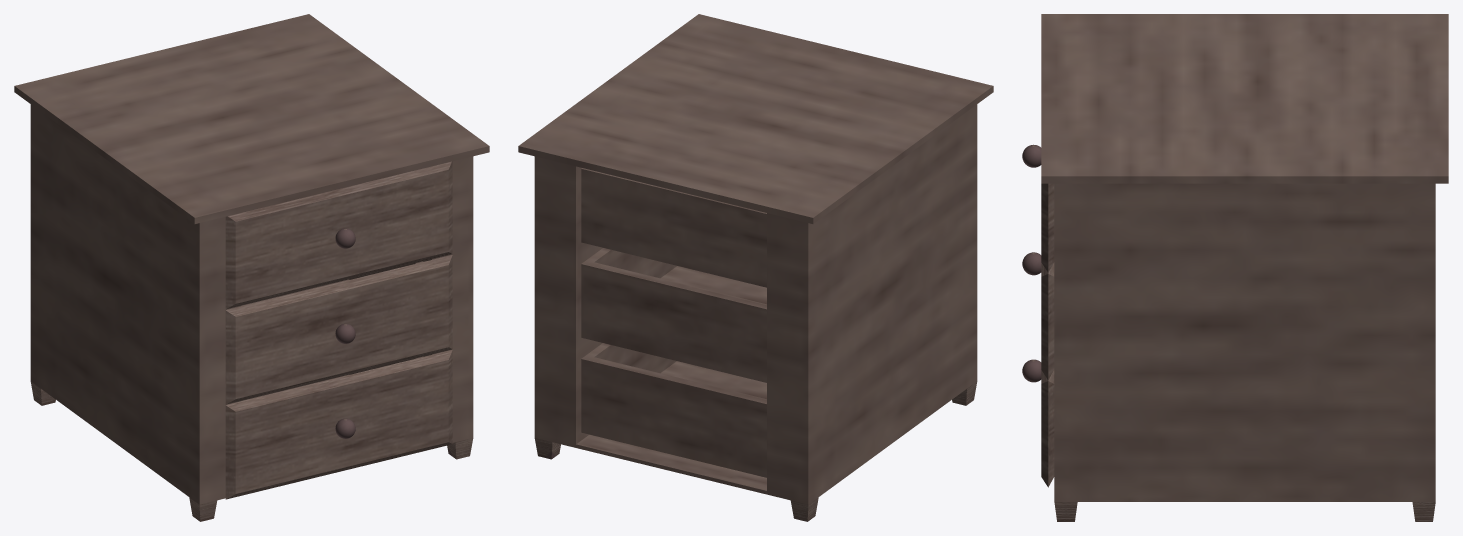
Rendered from MesitaNoche - copia.fbx.
3 renders of one model, left to right at view 1: azimuth 30°, elevation 25°; view 2: azimuth 150°, elevation 25°; view 3: azimuth 270°, elevation 25°, orthographic. The views are drawn at different scales.
Visible parts, largest first — view 1: MesitaNoche, MesitaNocheCajon; view 2: MesitaNoche, MesitaNocheCajon; view 3: MesitaNoche, MesitaNocheCajon.
Boxes of the visible parts, left/top/right/bottom form: MesitaNoche: left=14, top=14, right=489, bottom=521; MesitaNocheCajon: left=225, top=161, right=452, bottom=309; MesitaNoche: left=518, top=14, right=993, bottom=521; MesitaNocheCajon: left=581, top=168, right=766, bottom=287; MesitaNoche: left=1022, top=14, right=1448, bottom=521; MesitaNocheCajon: left=1022, top=144, right=1054, bottom=272.
Size of the model in its own units: 96.44 by 97.62 by 107.
Materials: 1 (1 with a texture image).
